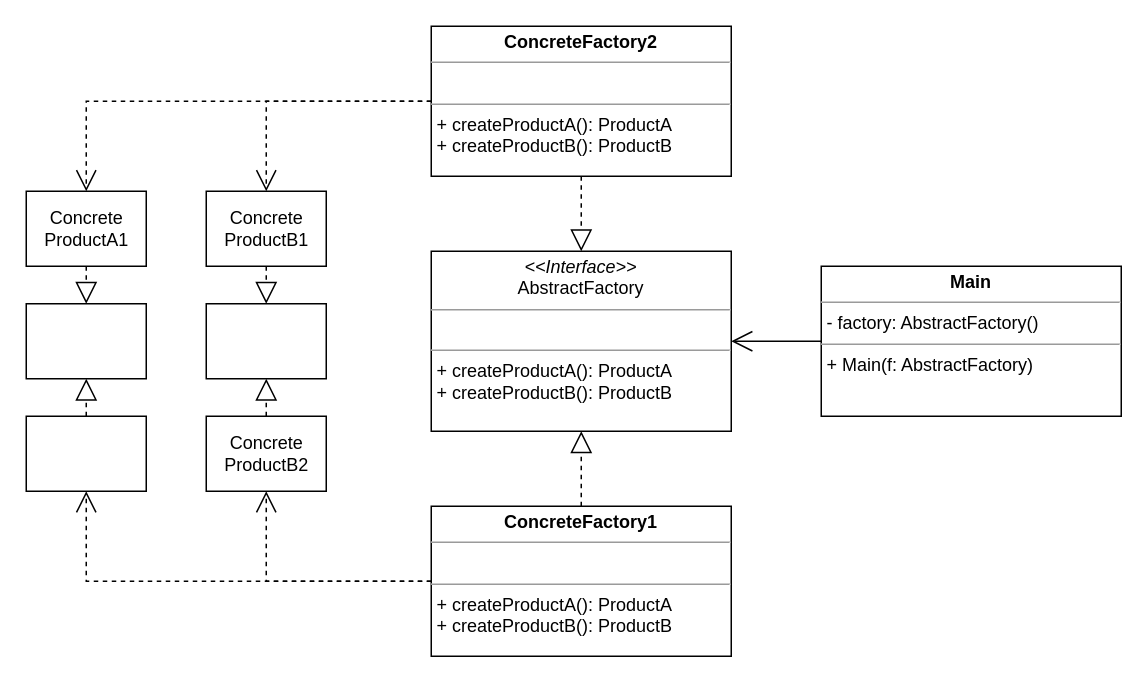
Some shapes in this 1148 by 683 pixel diagram are drawn without their labels. Each missing label, with the box of its shape:
Concrete ProductA2: (25, 415, 146, 491)
ProductA: (25, 302, 146, 379)
ProductB: (205, 302, 326, 379)
